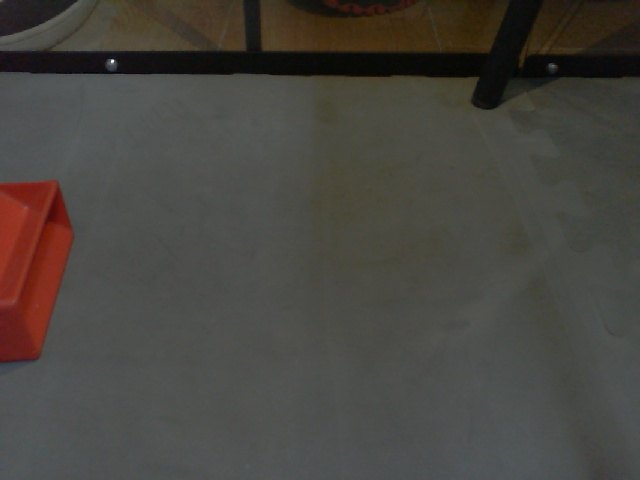RedSample: (1, 178, 78, 370)
